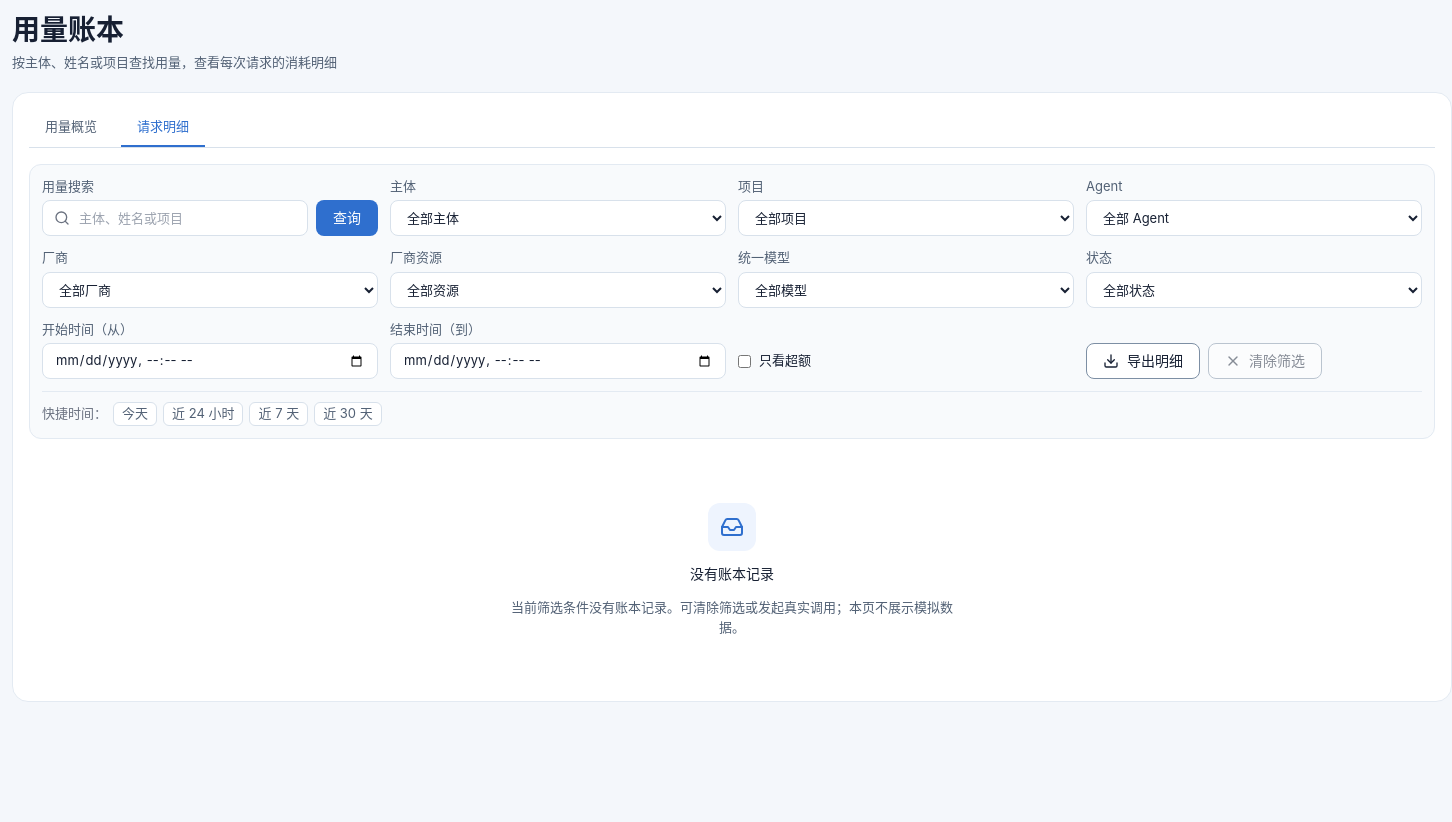
W18 用量账本 › 输入姓名或项目后点击查询或回车才应用，并重置页码
Type "张三" into the search field named "搜索主体、姓名或项目" at (175,218), box x1=42 y1=200 x2=308 y2=236
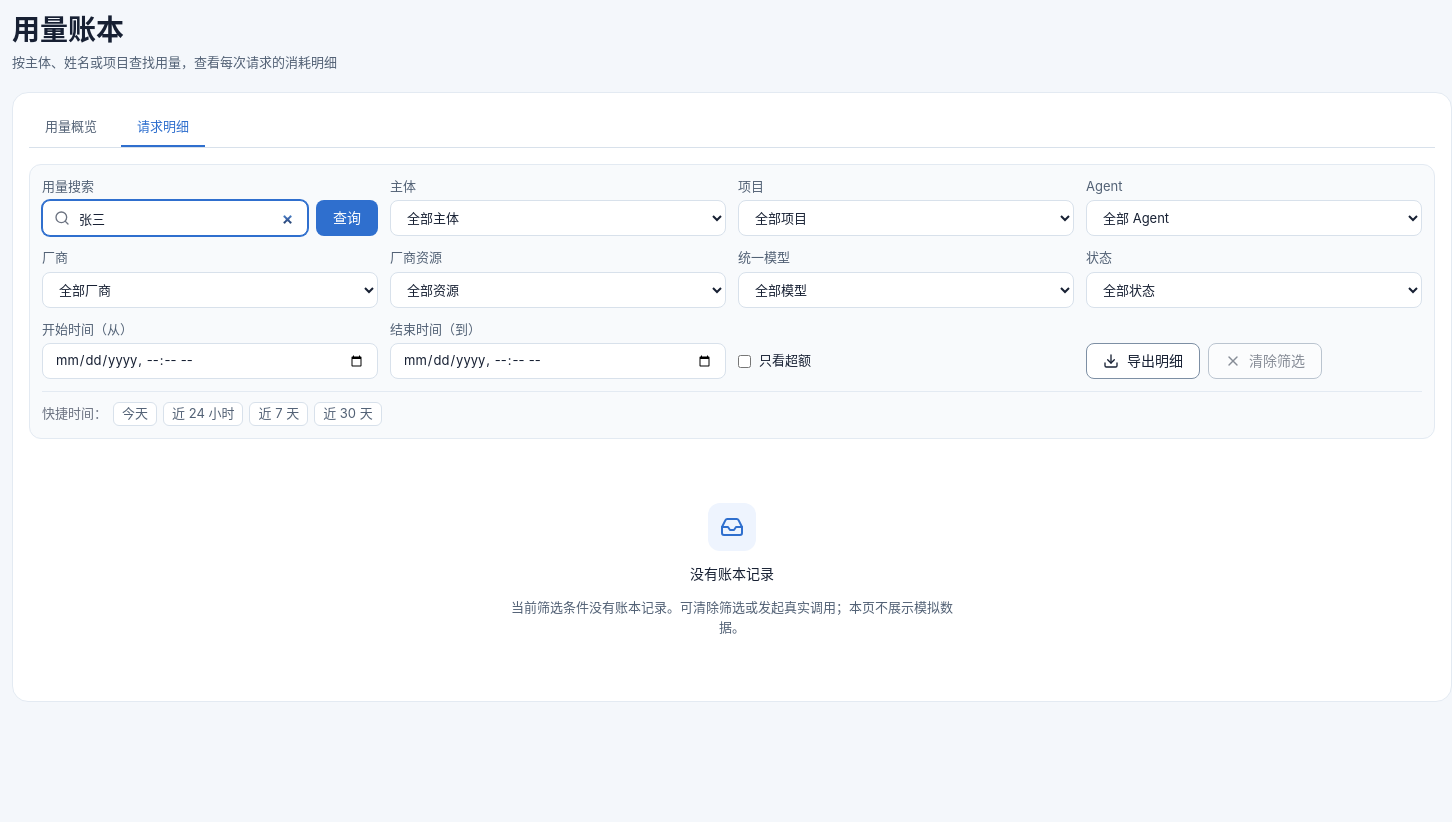
Click the button "查询" at (347,218), box x1=316 y1=200 x2=378 y2=236
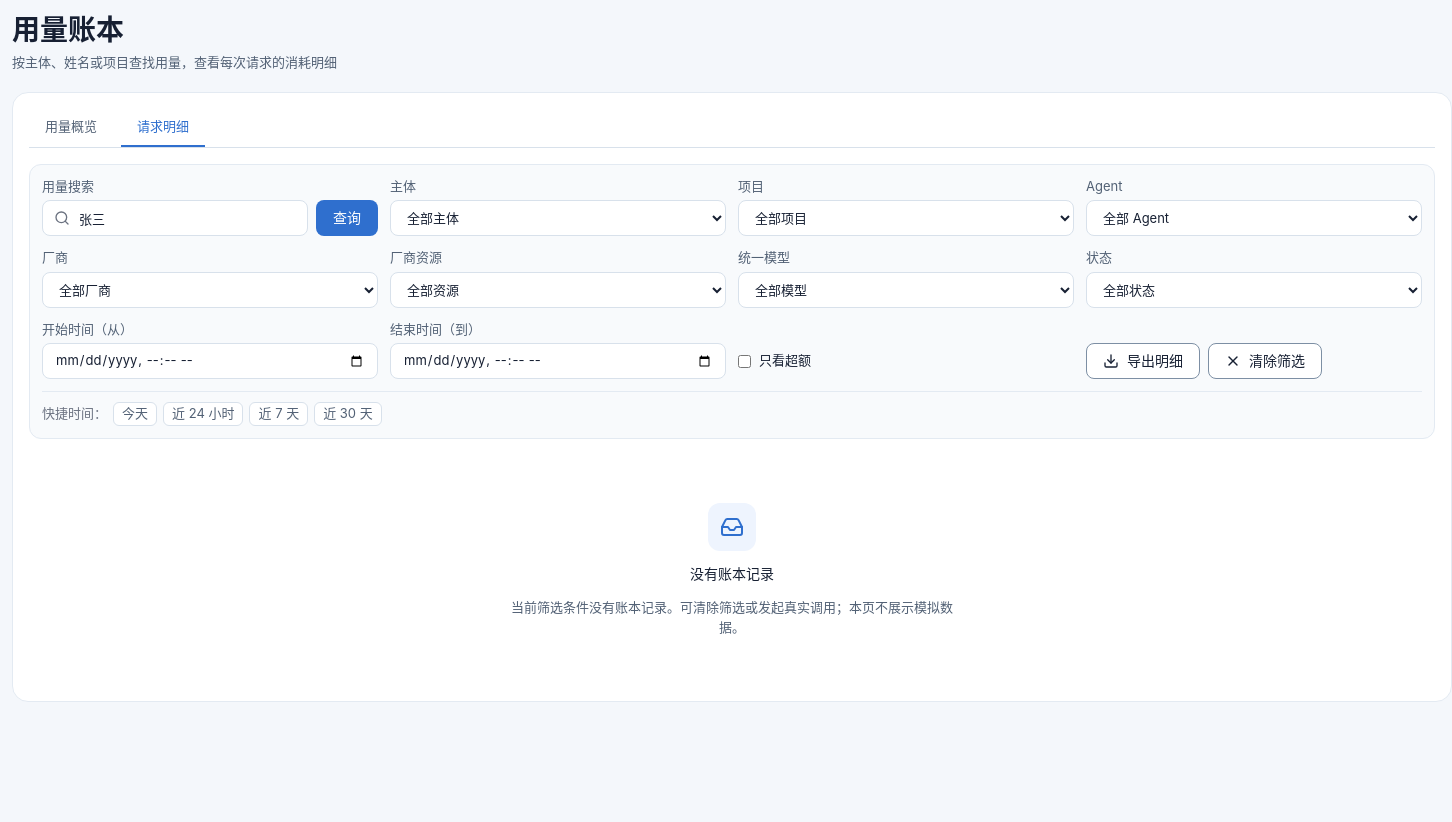
Replace the text in the search field named "搜索主体、姓名或项目" with " 星河项目" at (175,218), box x1=42 y1=200 x2=308 y2=236
Then press Enter
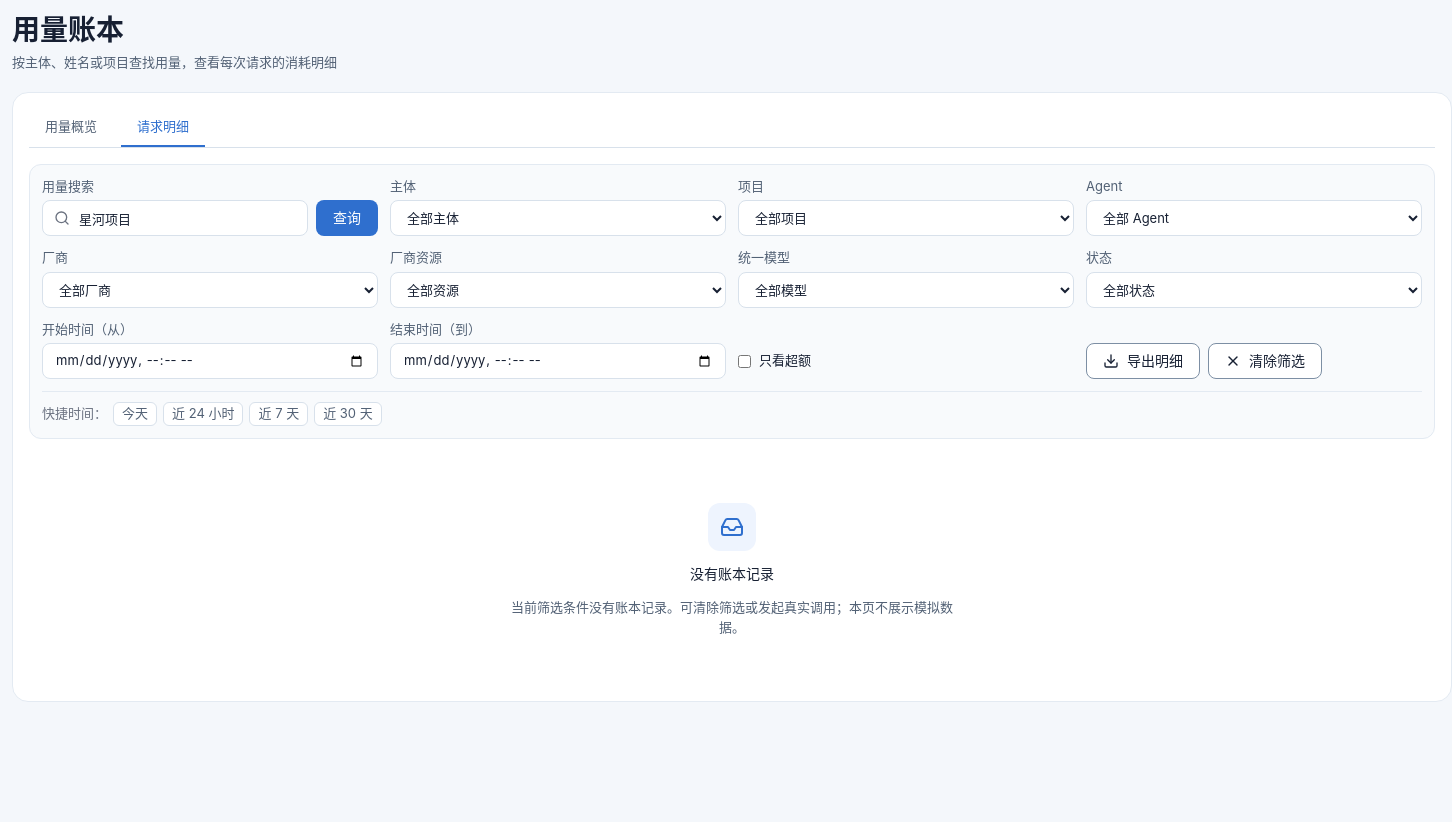
Click the button "清除筛选" at (1265,361), box x1=1208 y1=343 x2=1322 y2=379
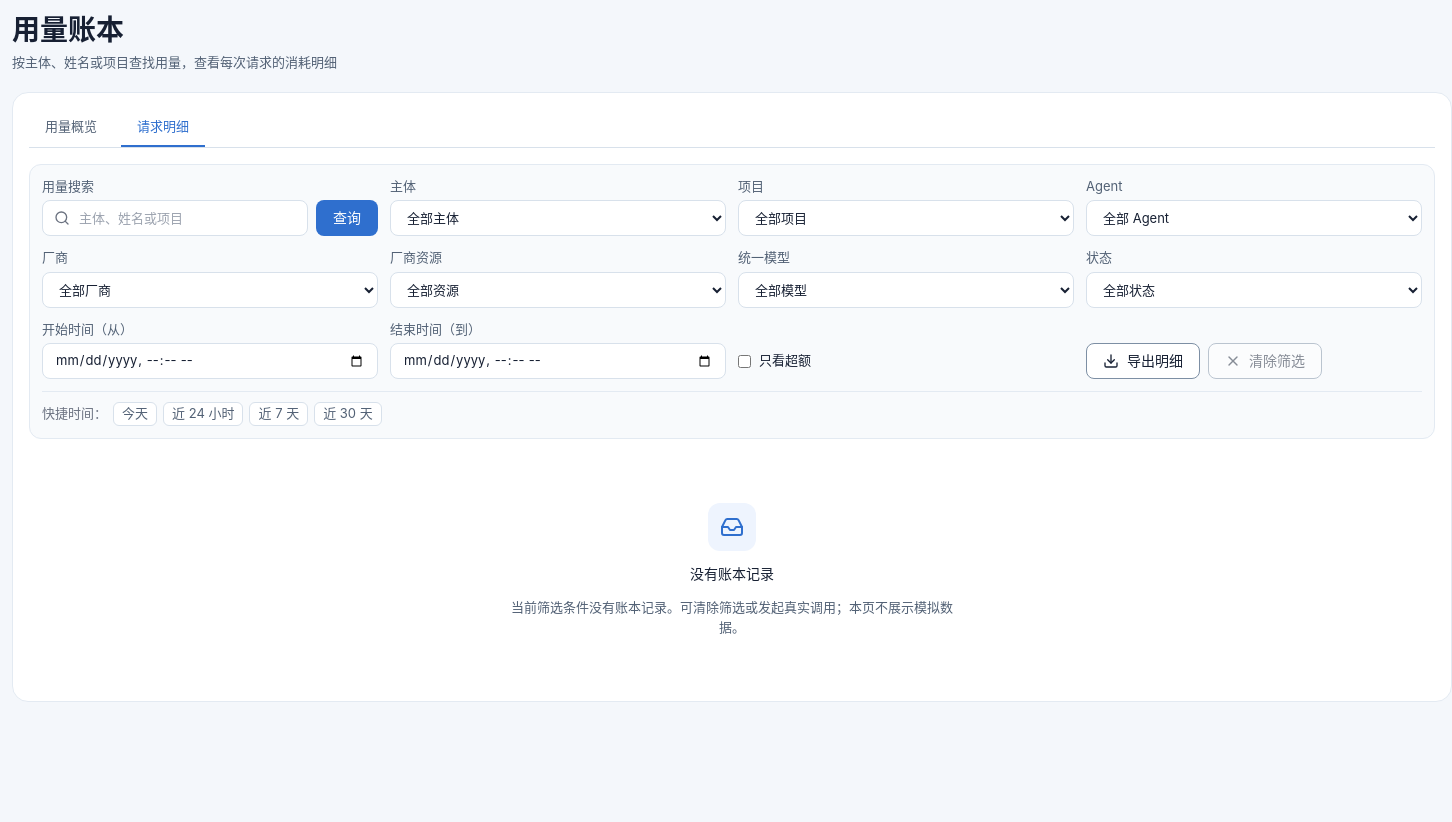
Now the search field is empty, box x1=42 y1=200 x2=308 y2=236
